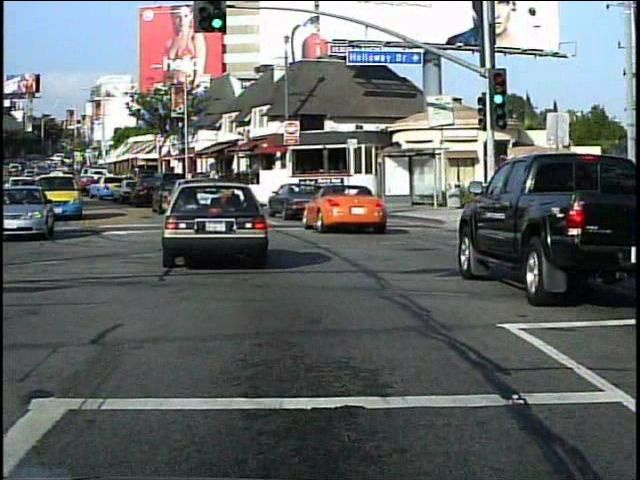person: (578, 187, 601, 250)
